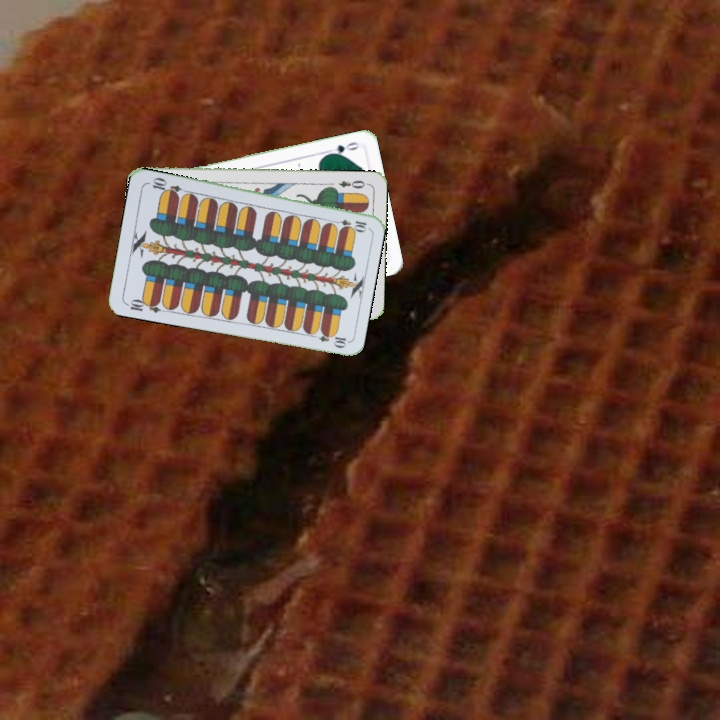E10: (122, 294, 162, 315), (328, 215, 369, 232)
EO: (335, 176, 371, 191)
GO: (322, 138, 362, 158)
